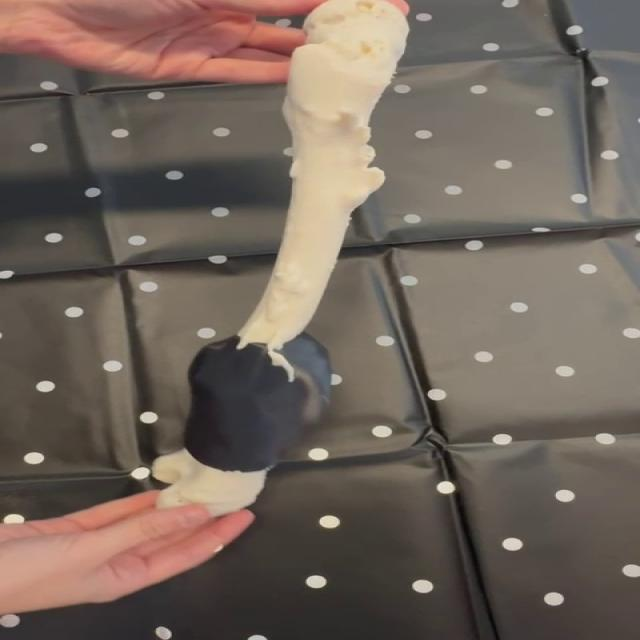bones: (152, 0, 407, 516)
